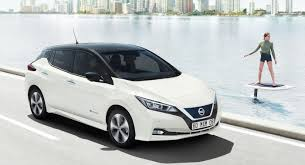Nissan: (29, 45, 200, 143)
